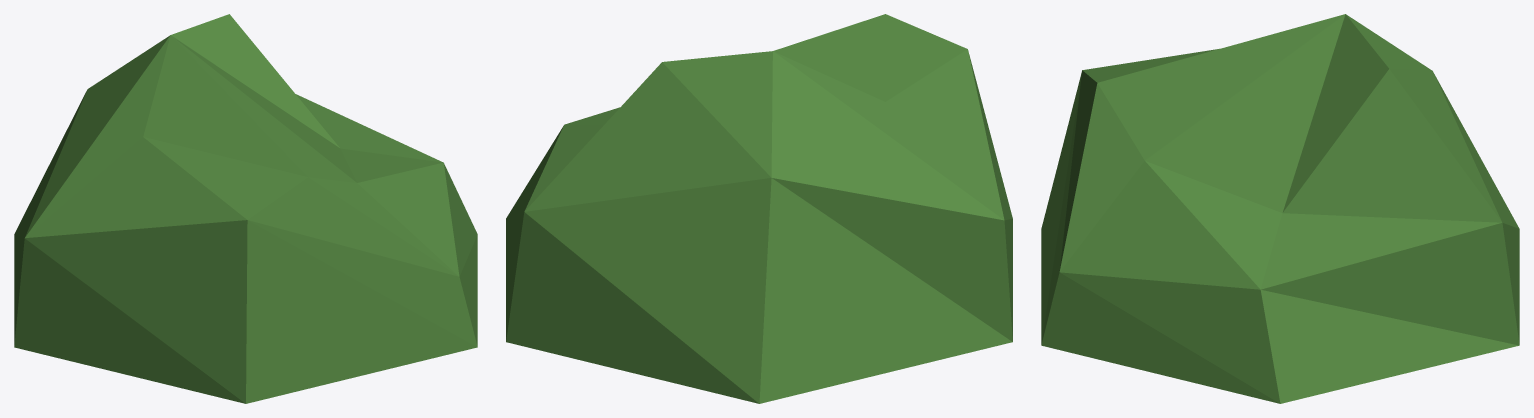
File: Bush_3_Light.fbx
The picture shows the model from 3 angles, left to right: view 1: azimuth 30°, elevation 25°; view 2: azimuth 150°, elevation 25°; view 3: azimuth 270°, elevation 25°; orthographic projection. The views are drawn at different scales.
Parts seen in each view (by area): view 1: Bush_3_Light; view 2: Bush_3_Light; view 3: Bush_3_Light.
Boxes of the visible parts, left/top/right/bottom form: Bush_3_Light: left=14, top=14, right=477, bottom=403; Bush_3_Light: left=506, top=14, right=1012, bottom=403; Bush_3_Light: left=1041, top=14, right=1519, bottom=403.
Size of the model in its own units: 1.46 by 0.7304 by 1.26.
